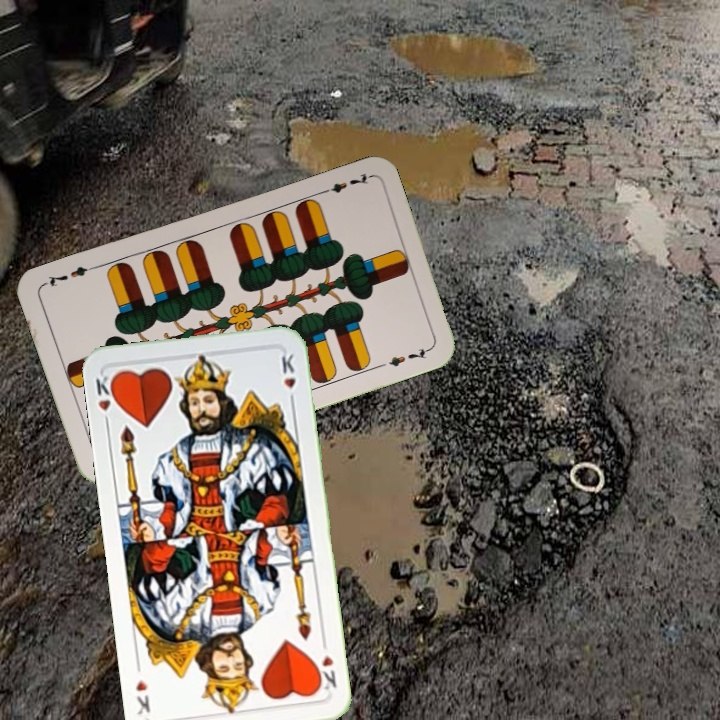E7: (315, 169, 372, 197)
HK: (91, 371, 120, 430), (312, 651, 339, 693)
